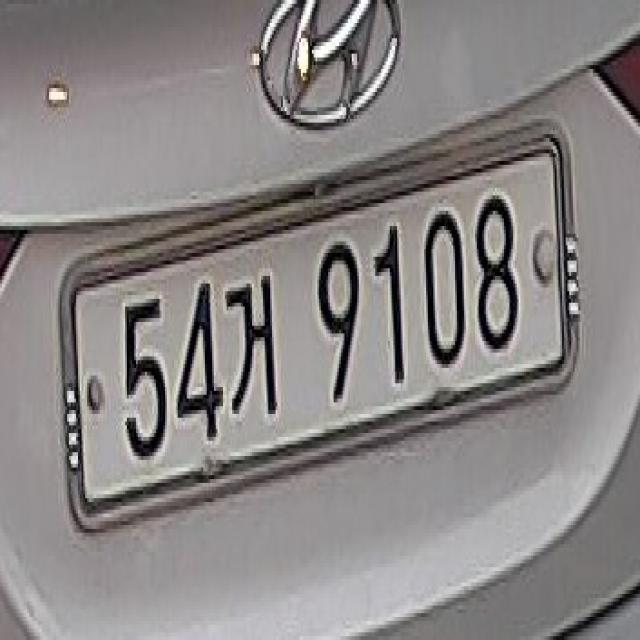0: (416, 201, 470, 378)
1: (371, 224, 412, 402)
4: (172, 271, 226, 458)
5: (118, 290, 168, 456)
8: (473, 190, 525, 354)
9: (309, 234, 362, 418)
geo: (225, 270, 286, 436)
license_plate: (48, 89, 603, 578)
